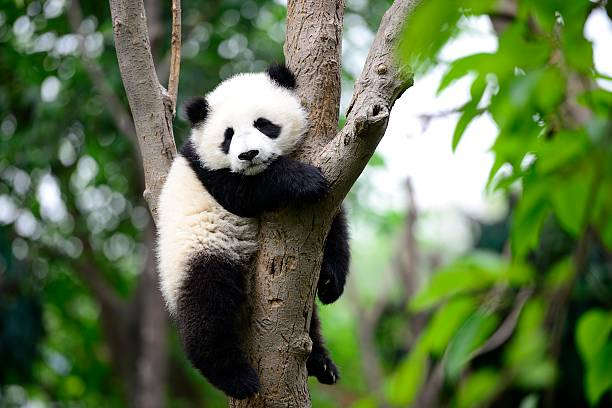panda: (164, 60, 323, 198)
